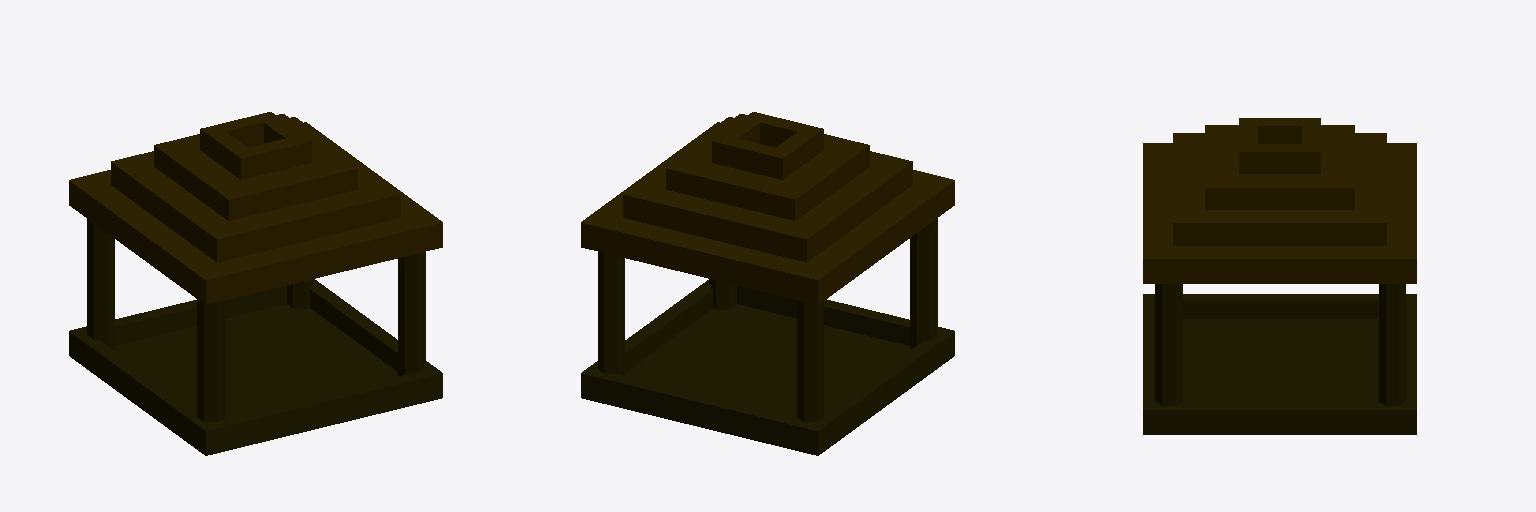
Rendered from clayhut.obj.
3 renders of one model, left to right at view 1: azimuth 30°, elevation 25°; view 2: azimuth 150°, elevation 25°; view 3: azimuth 270°, elevation 25°, orthographic.
Visible parts, largest first — view 1: underlag_Cube.001; view 2: underlag_Cube.001; view 3: underlag_Cube.001.
Boxes of the visible parts, x1,y1,x2,y2 form: underlag_Cube.001: [69, 112, 442, 455]; underlag_Cube.001: [581, 112, 954, 455]; underlag_Cube.001: [1143, 118, 1416, 434].
Bounding box in the file's own units: 10 × 9.72 × 10.